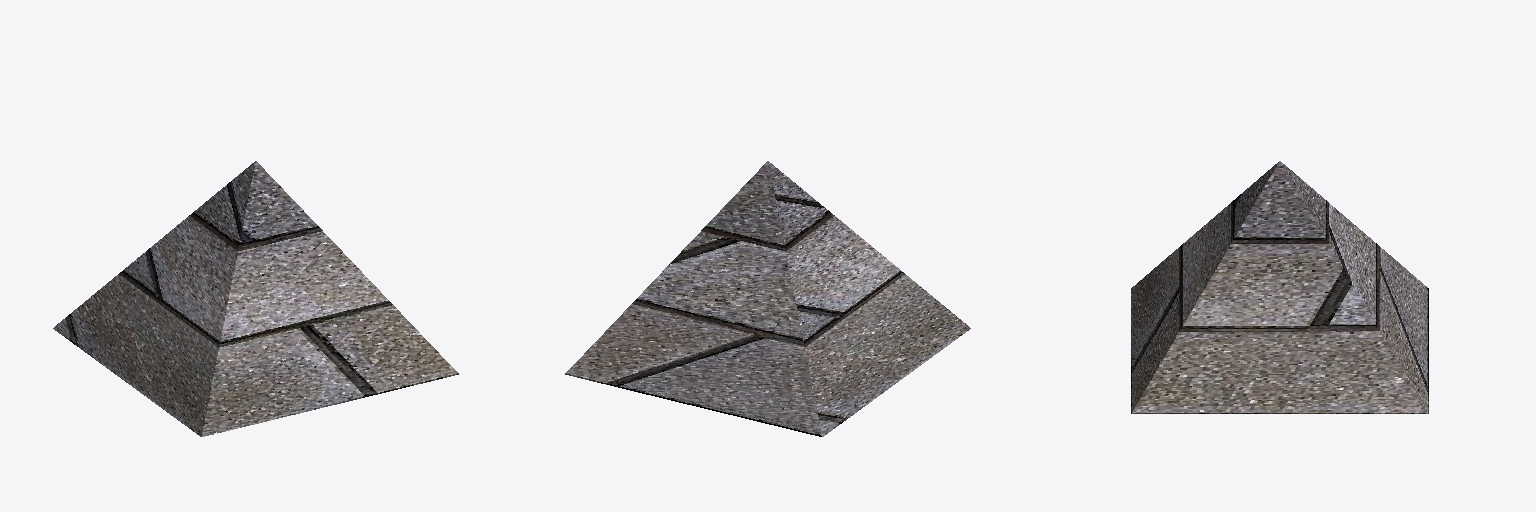
The picture shows the model from 3 angles: view 1: azimuth 30°, elevation 25°; view 2: azimuth 150°, elevation 25°; view 3: azimuth 270°, elevation 25°; orthographic projection.
Size of the model in its own units: 1 by 0.7071 by 1.
Materials: 1 (1 with a texture image).